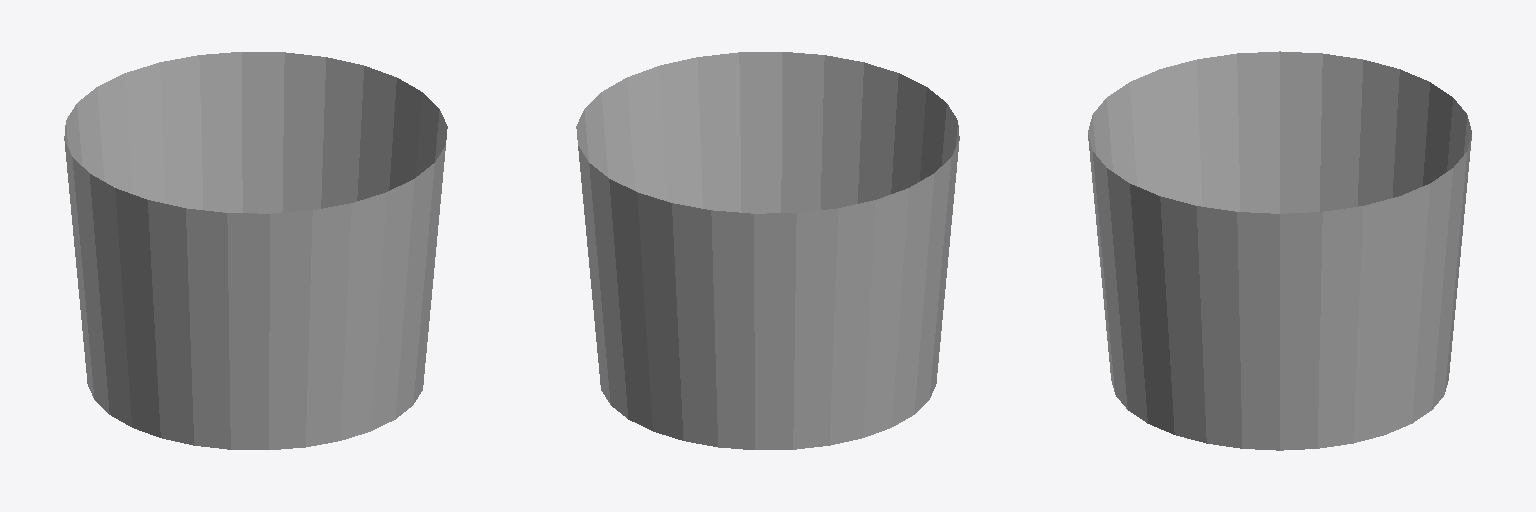
File: Liquid.obj
The picture shows the model from 3 angles: view 1: azimuth 30°, elevation 25°; view 2: azimuth 150°, elevation 25°; view 3: azimuth 270°, elevation 25°; orthographic projection.
Parts seen in each view (by area): view 1: Liquido_LIQUID__base; view 2: Liquido_LIQUID__base; view 3: Liquido_LIQUID__base.
Boxes of the visible parts, <box> form: Liquido_LIQUID__base: <box>64,52,447,449</box>; Liquido_LIQUID__base: <box>576,52,959,449</box>; Liquido_LIQUID__base: <box>1088,51,1471,450</box>.
Bounding box in the file's own units: 1.99 × 1.41 × 1.99.